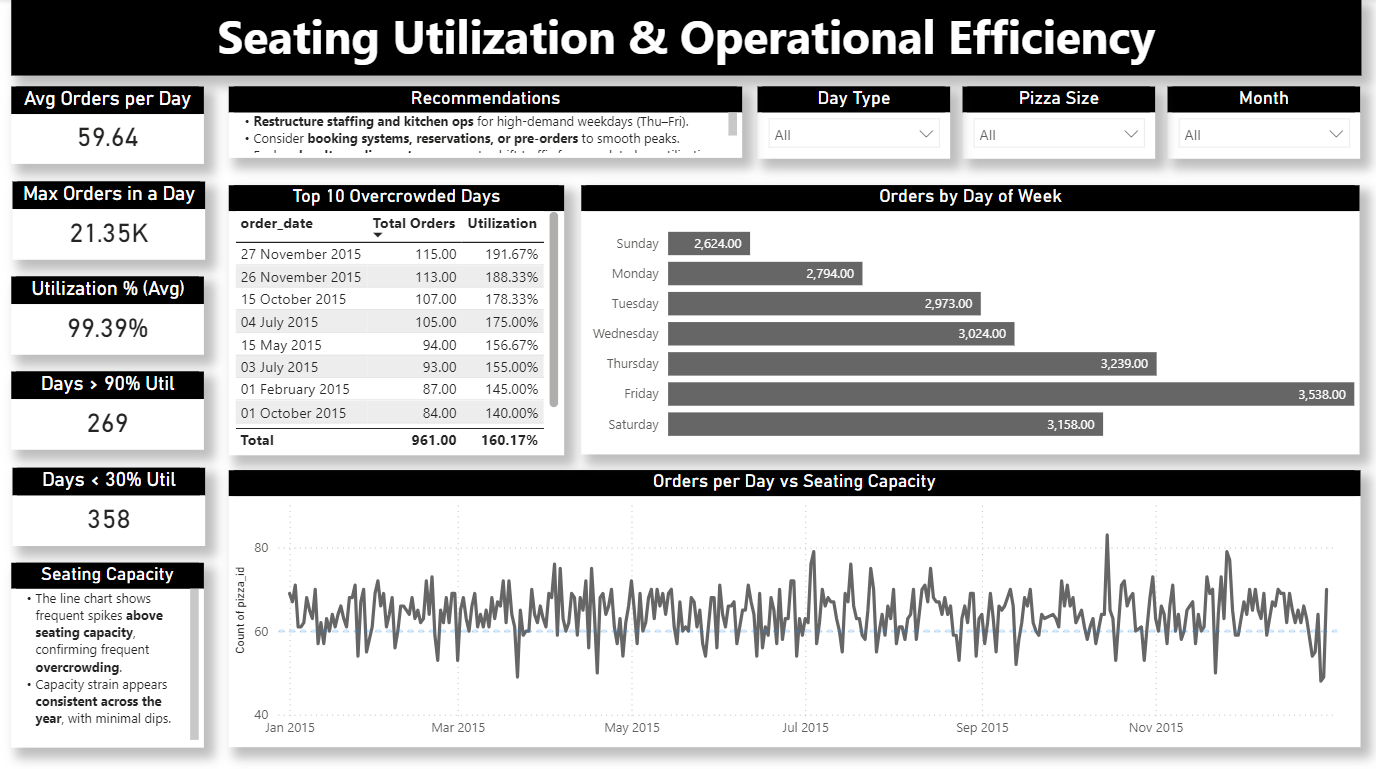

This screenshot's page, from the dashboard's own definition file:
{"tool":"powerbi","page":{"name":"Page 5","canvas":[1280,720],"ordinal":4},"visuals":[{"type":"textbox","box":[10.5,0,1255.8,70.9],"z":0},{"type":"card","title":"Avg Orders per Day","fields":{"Values":["pizza.Avg Orders/Day"]},"box":[11,81.7,179,72.4],"z":1000},{"type":"card","title":"Max Orders in a Day","fields":{"Values":["pizza.Total Orders"]},"box":[11.1,169.7,179.5,73.1],"z":2000},{"type":"card","title":"Utilization % (Avg)","fields":{"Values":["pizza.Util % Avg"]},"box":[9.9,258.4,179.5,73.1],"z":3000},{"type":"card","title":"Days > 90% Util","fields":{"Values":["pizza.Days Over 90"]},"box":[9.9,347,179.5,73.1],"z":4000},{"type":"card","title":"Days < 30% Util","fields":{"Values":["pizza.Days Below 90"]},"box":[11.1,435.7,179.5,73.1],"z":5000},{"type":"lineChart","title":"Orders per Day vs Seating Capacity","fields":{"Y":["Count(pizza.pizza_id)"],"Category":["pizza.order_date.Variation.Date Hierarchy.Year","pizza.order_date.Variation.Date Hierarchy.Quarter","pizza.order_date.Variation.Date Hierarchy.Month","pizza.order_date.Variation.Date Hierarchy.Day"]},"box":[213,438.3,1052.4,257.5],"z":6000},{"type":"tableEx","title":"Top 10 Overcrowded Days","fields":{"Values":["pizza.order_date","pizza.Total Orders","pizza.Util % Avg"]},"box":[212.9,173,311.9,251.3],"z":7000},{"type":"clusteredBarChart","title":"Orders by Day of Week","fields":{"Y":["pizza.Total Orders"],"Category":["pizza.Day_Name"]},"box":[541.1,173.3,724.3,250.1],"z":8000},{"type":"slicer","title":"Month","fields":{"Values":["pizza.Month_Name"]},"box":[1085.9,81.7,179.5,66.9],"z":9000},{"type":"slicer","title":"Pizza Size","fields":{"Values":["pizza.pizza_size"]},"box":[895.2,81.7,179.5,66.9],"z":10000},{"type":"slicer","title":"Day Type","fields":{"Values":["pizza.Day Type"]},"box":[704.5,81.7,179.5,66.9],"z":11000},{"type":"textbox","title":"Seating Capacity","box":[10.5,524.4,179.1,172.1],"z":12000},{"type":"textbox","title":"Recommendations","box":[212.8,81.4,477.9,66.3],"z":12001}]}

Visuals, with their boxes in screenshot pixels (x1, y1, x2, y2), scaled from the page's 1280x720 canvas onto the 1376x769 screenshot:
textbox: 11 0 1361 76
"Avg Orders per Day" card: 12 87 204 165
"Max Orders in a Day" card: 12 181 205 259
"Utilization % (Avg)" card: 11 276 204 354
"Days > 90% Util" card: 11 371 204 449
"Days < 30% Util" card: 12 465 205 543
"Orders per Day vs Seating Capacity" lineChart: 229 468 1360 743
"Top 10 Overcrowded Days" tableEx: 229 185 564 453
"Orders by Day of Week" clusteredBarChart: 582 185 1360 452
"Month" slicer: 1167 87 1360 159
"Pizza Size" slicer: 962 87 1155 159
"Day Type" slicer: 757 87 950 159
"Seating Capacity" textbox: 11 560 204 744
"Recommendations" textbox: 229 87 743 158
